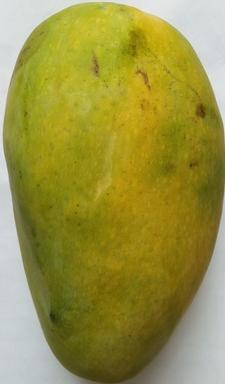PartiallyRipe: (1, 0, 225, 384)
